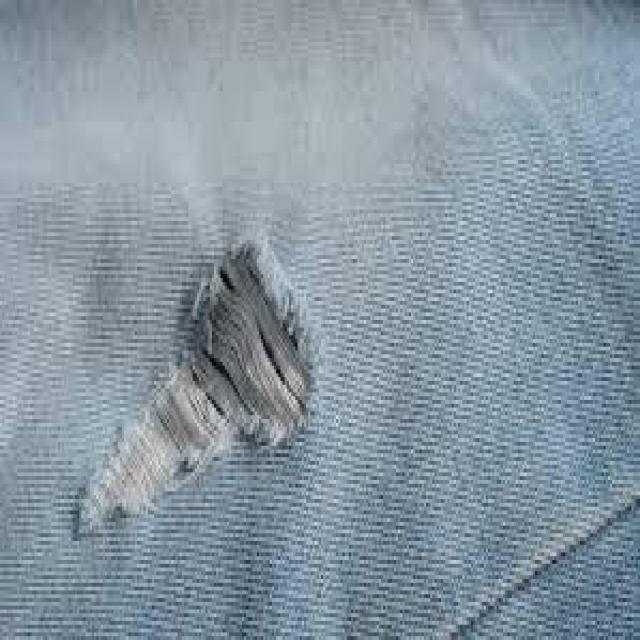cut: (80, 238, 316, 532)
